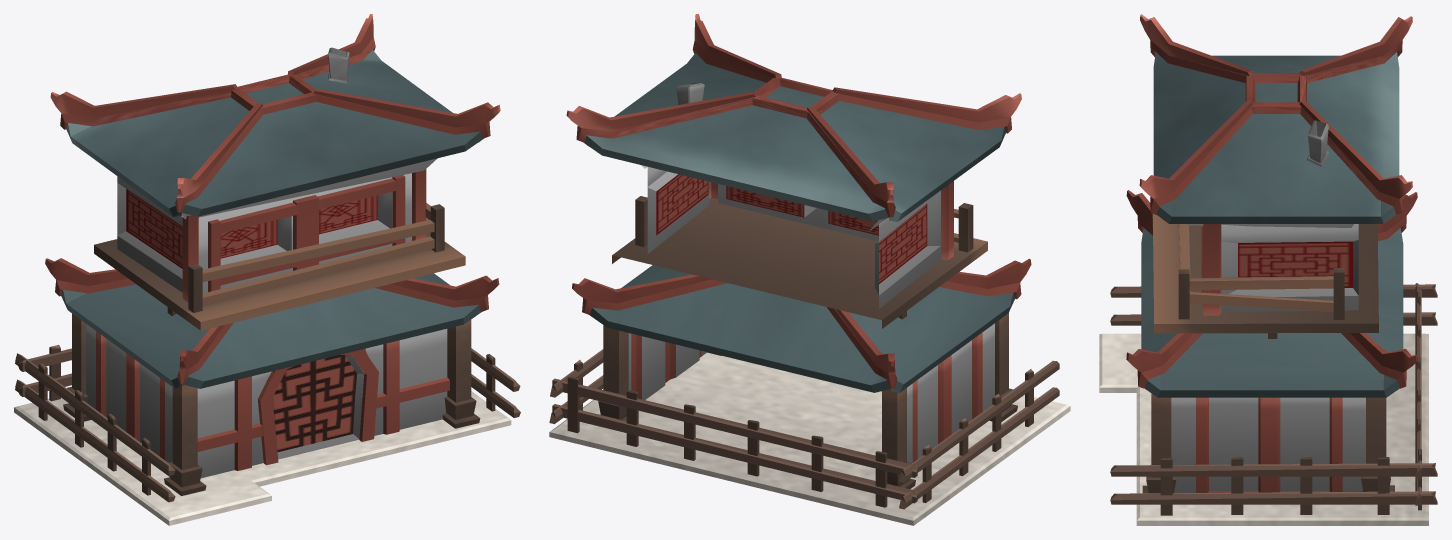
Rendered from Blacksmith_3lvl.fbx.
3 views of the same model, side by side, from view 1: azimuth 30°, elevation 25°; view 2: azimuth 150°, elevation 25°; view 3: azimuth 270°, elevation 25° (orthographic). The views are drawn at different scales.
Visible parts, largest first — view 1: blacksmith_3lvl_color; view 2: blacksmith_3lvl_color; view 3: blacksmith_3lvl_color.
Boxes of the visible parts, x1=… form: blacksmith_3lvl_color: x1=14, y1=14, x2=520, y2=525; blacksmith_3lvl_color: x1=549, y1=14, x2=1070, y2=525; blacksmith_3lvl_color: x1=1099, y1=14, x2=1437, y2=525.
Bounding box in the file's own units: 6.01 × 5.33 × 4.6.
